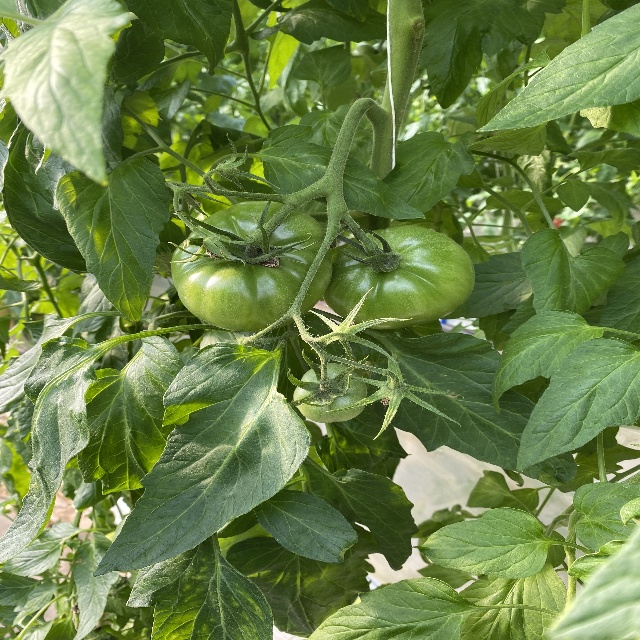b_green: (171, 201, 333, 332), (323, 225, 476, 330), (294, 362, 368, 423)
